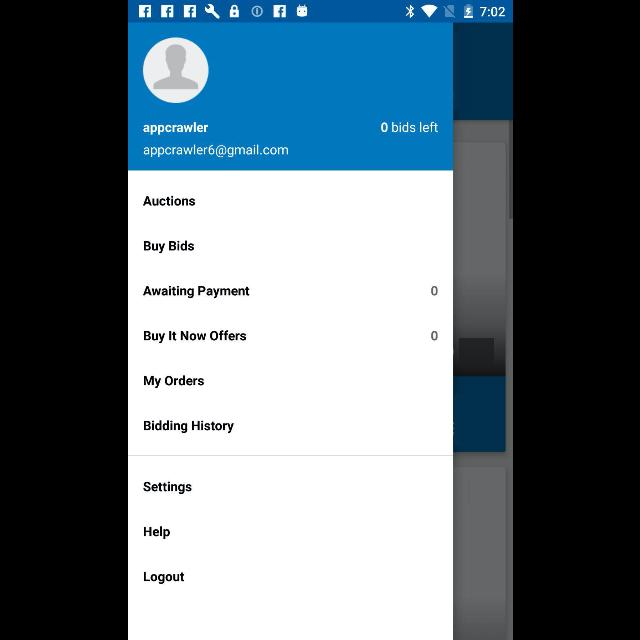icon: (142, 38, 208, 104)
panel: (128, 22, 452, 640)
text: (142, 144, 288, 158), (142, 331, 245, 344), (143, 286, 250, 298), (143, 421, 233, 434), (142, 122, 208, 136), (142, 376, 204, 388), (380, 121, 438, 133), (142, 240, 194, 253), (143, 482, 191, 494), (142, 196, 194, 206), (142, 572, 184, 584), (143, 526, 169, 540), (430, 286, 438, 296), (430, 331, 438, 341)
uppertaskbar: (128, 1, 512, 23)
